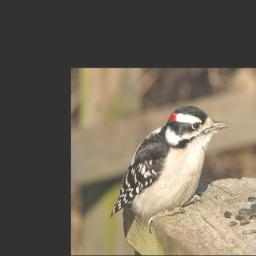Woodpecker: (108, 106, 231, 234)
